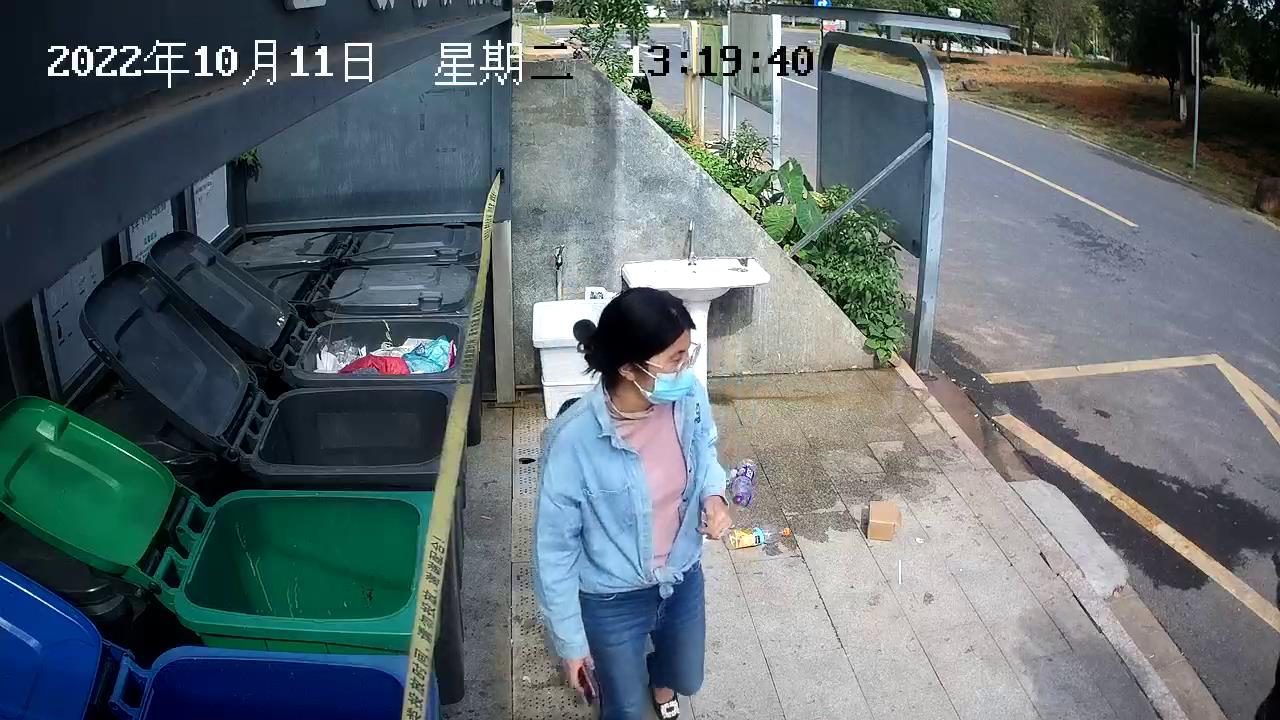suliaozhipin: (720, 522, 799, 552), (729, 455, 759, 508)
worker: (525, 281, 738, 720)
zhizhipin: (863, 495, 907, 546)
